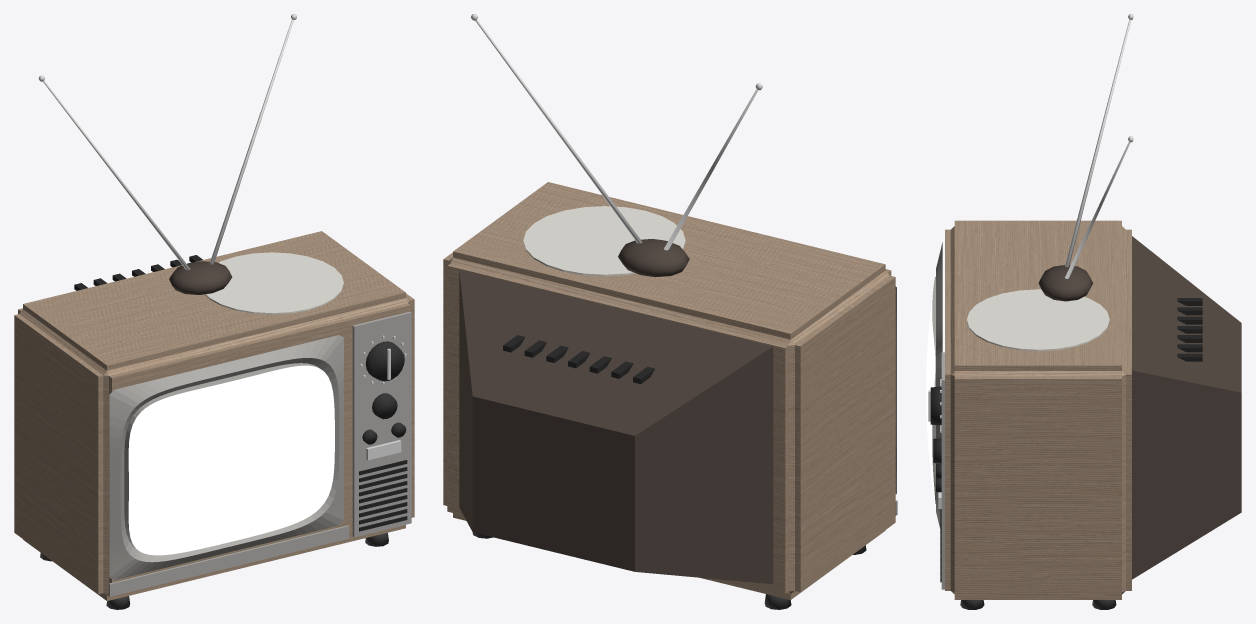
File: CRT_TV.gltf
3 views of the same model, side by side, from view 1: azimuth 30°, elevation 25°; view 2: azimuth 150°, elevation 25°; view 3: azimuth 270°, elevation 25° (orthographic). The views are drawn at different scales.
Parts seen in each view (by area): view 1: A_CRT_TV; view 2: A_CRT_TV; view 3: A_CRT_TV.
Boxes of the visible parts, x1,y1,x2,y2 form: A_CRT_TV: [14, 14, 414, 609]; A_CRT_TV: [443, 14, 897, 609]; A_CRT_TV: [926, 14, 1241, 609].
Bounding box in the file's own units: 0.66 × 0.9375 × 0.574.
Materials: 9 (1 with a texture image).
